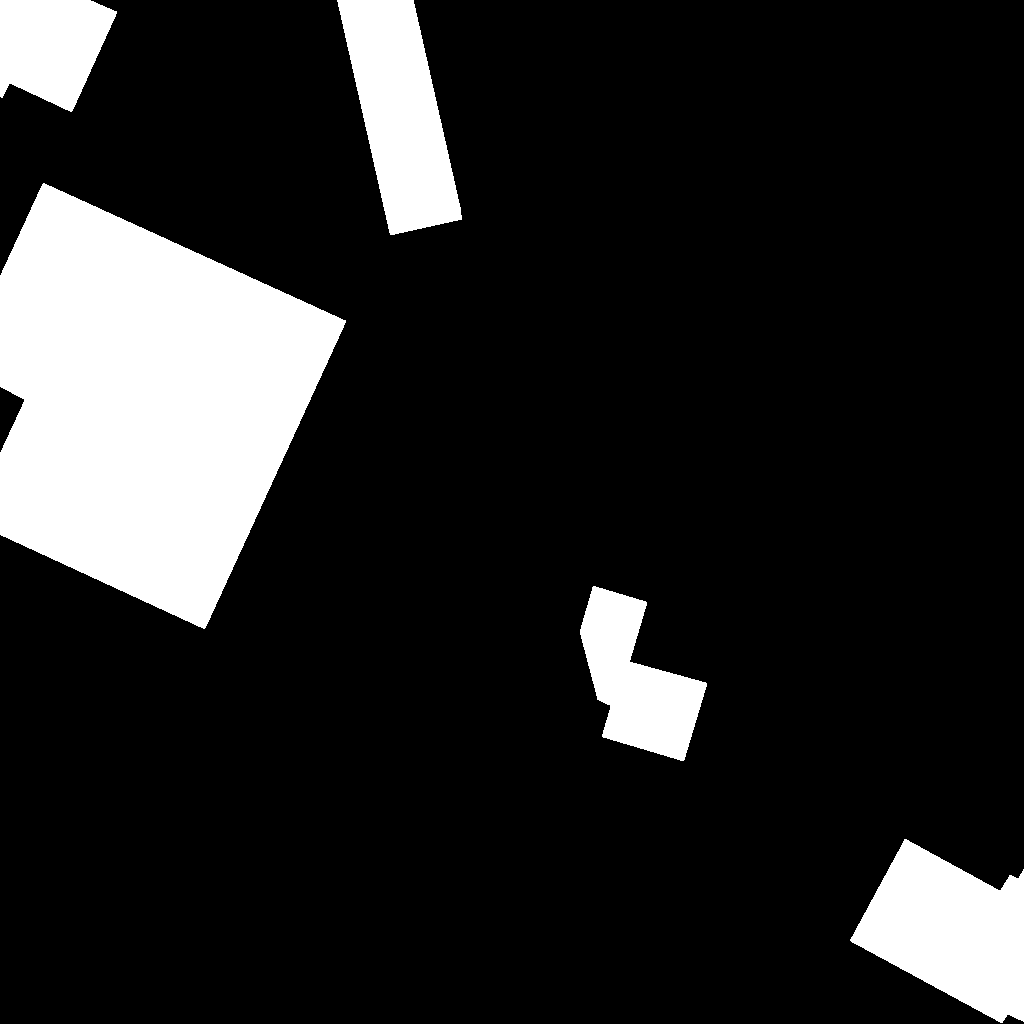building: (0, 183, 347, 630), (850, 839, 1024, 1024), (337, 0, 463, 236), (580, 586, 708, 762), (0, 0, 118, 113)
